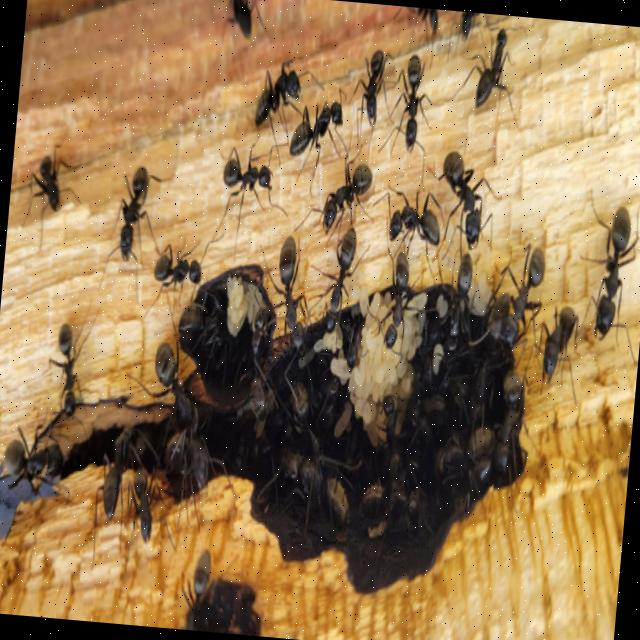Egg: (403, 288, 428, 318), (333, 402, 352, 440), (329, 358, 351, 382), (353, 398, 372, 423), (358, 283, 370, 317), (432, 344, 444, 361), (234, 285, 243, 307), (438, 299, 447, 317), (350, 285, 359, 302)
Medior: (246, 239, 330, 407), (96, 168, 170, 296), (528, 303, 584, 407)
Minor: (449, 24, 525, 141), (284, 82, 348, 194), (308, 147, 375, 243), (385, 54, 435, 170)
Soldier: (572, 198, 640, 365), (420, 144, 502, 262)
